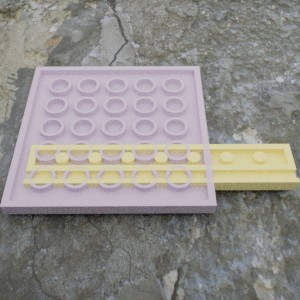lego: (0, 66, 216, 214), (23, 143, 300, 191)
